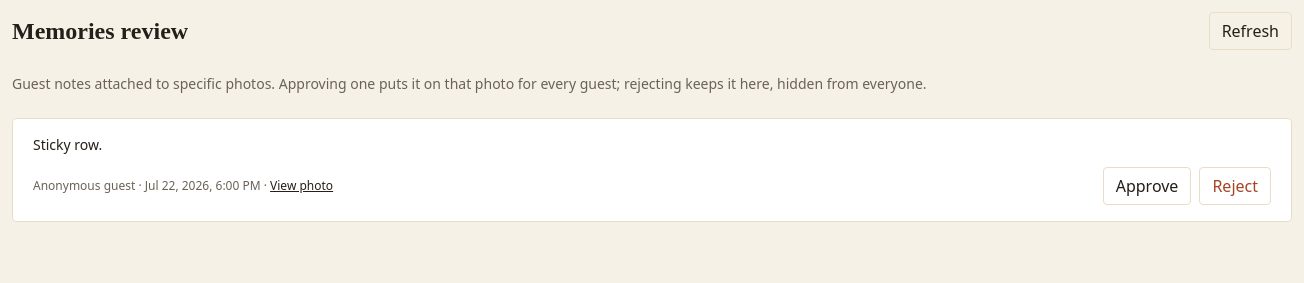
Test: MemoriesReviewQueue › keeps the row and shows an error when a rejection fails
What coordinates should you click on to do the following:
click the button "Reject"
I would click on:
 (1235, 186)
Its box is [1199,167,1271,205].
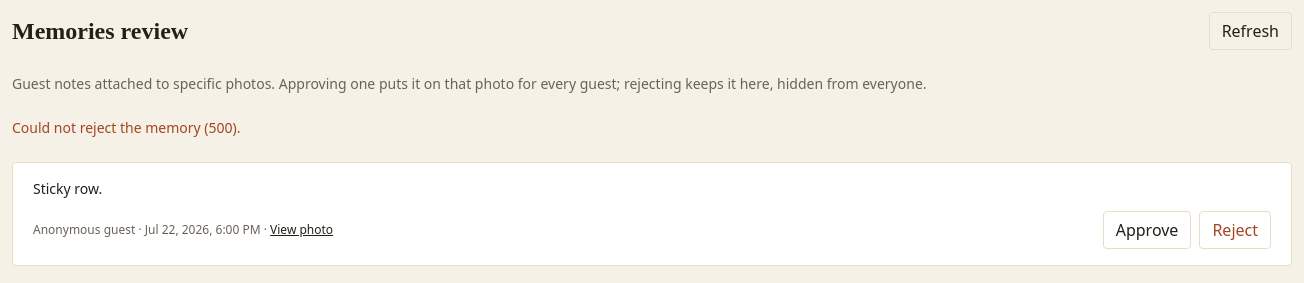
Check: the text "Sticky row." is shown, box [33,179,102,198]
Check: the message "Could not reject the memory (500)." is shown, box [12,118,240,137]
